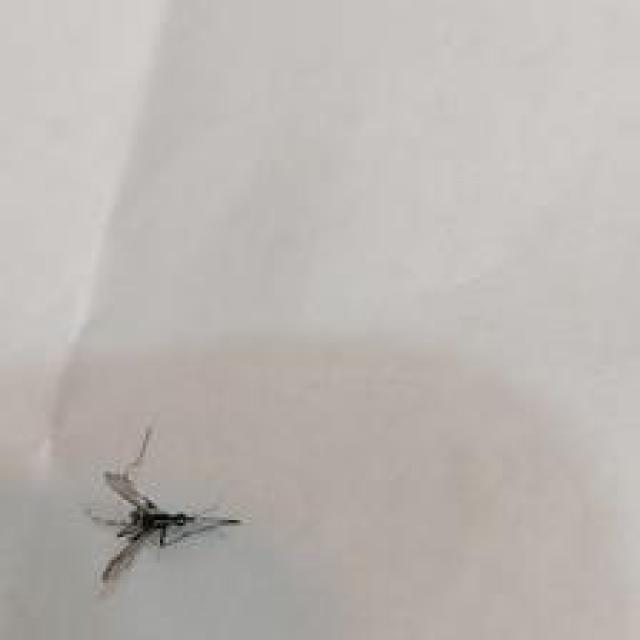Aedes albopictus: (83, 426, 243, 588)
